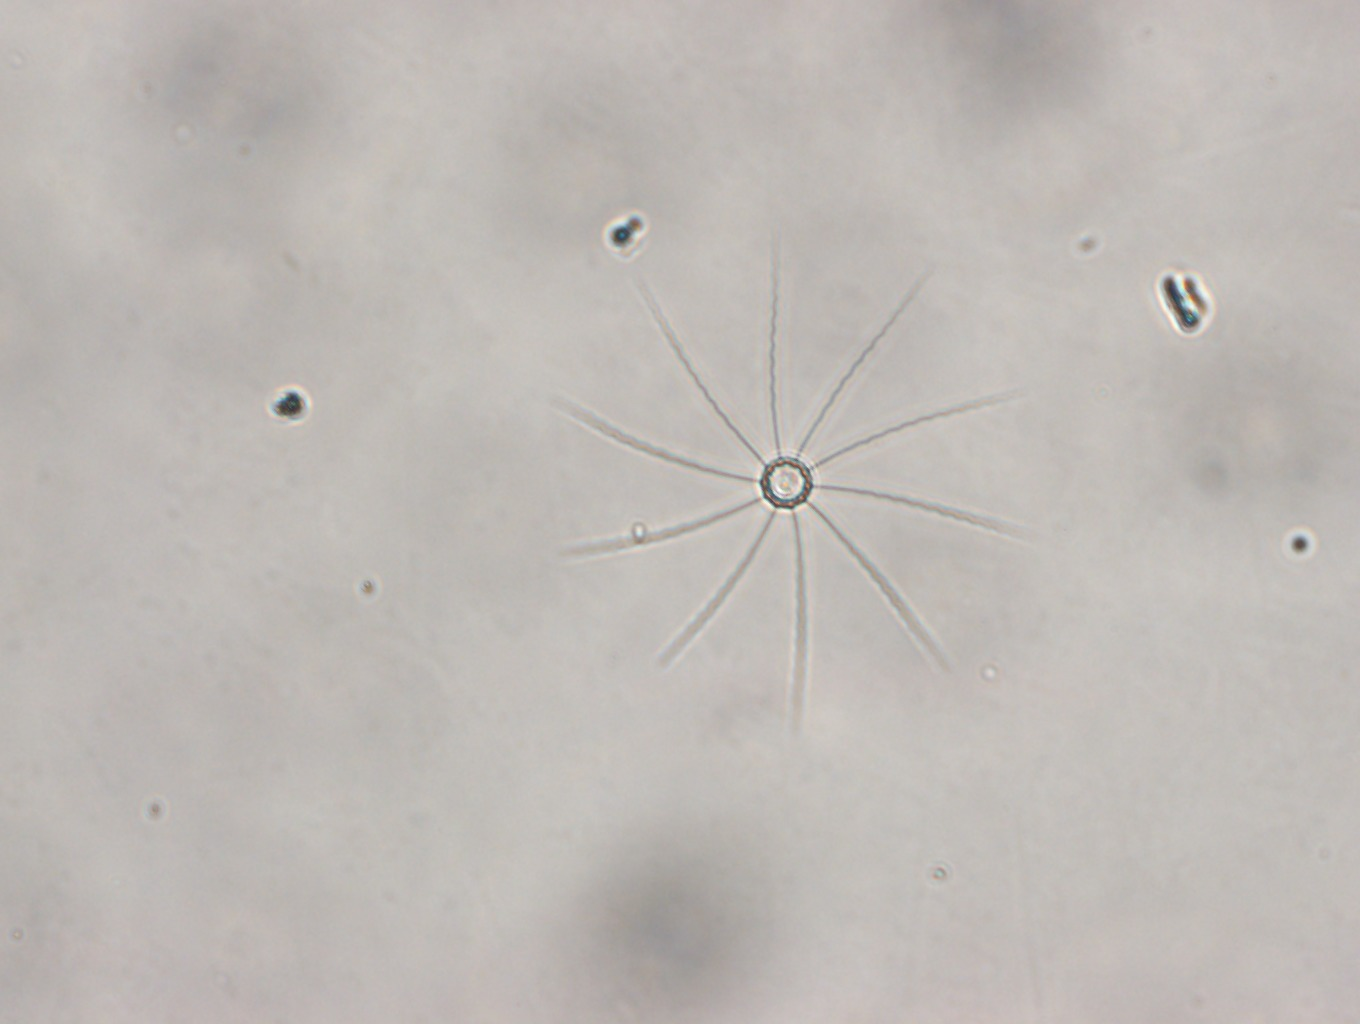bacteriastrum: (546, 233, 1037, 725)
